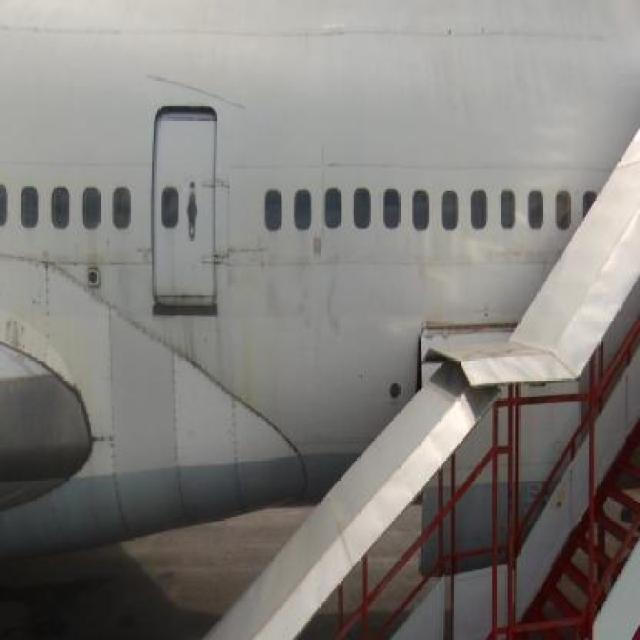Missing-Rivet: (97, 300, 206, 386), (104, 391, 136, 543), (4, 246, 82, 297), (172, 386, 194, 531)
Rust: (230, 280, 268, 418)
Scartch: (3, 305, 25, 352)
